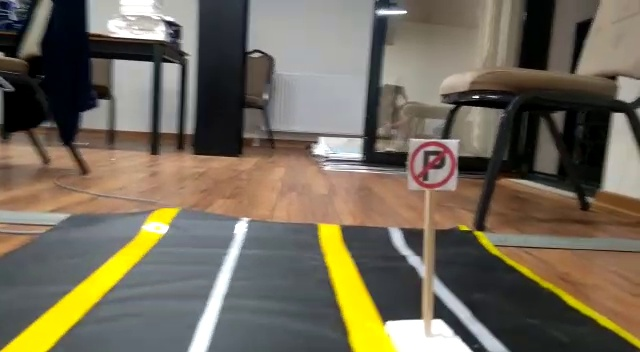park_yapilmaz: (408, 136, 460, 193)
